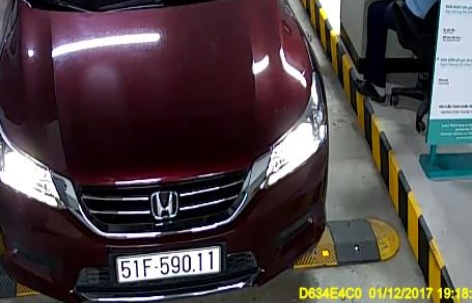plate: (111, 248, 227, 283)
